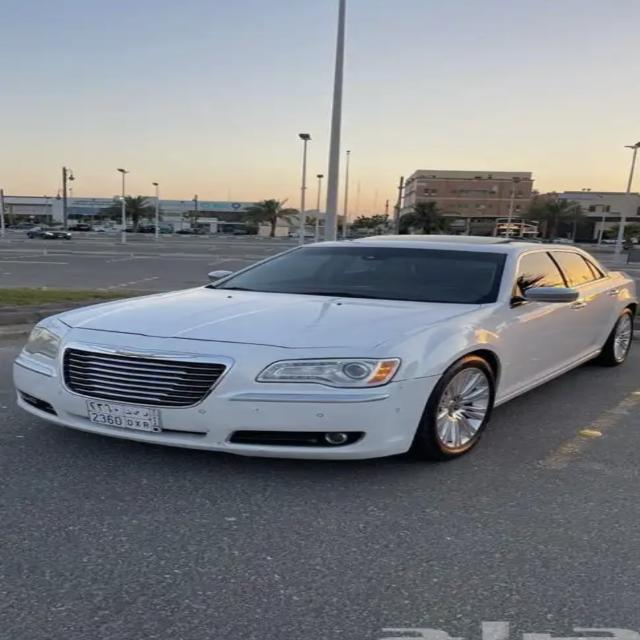license_plate: (85, 399, 166, 434)
